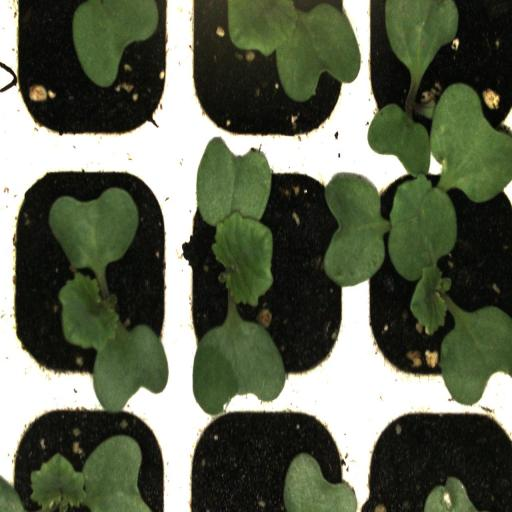seedling: (178, 154, 360, 396), (4, 156, 176, 395), (361, 0, 512, 156), (4, 397, 176, 512)
twoseedling: (360, 159, 512, 396)
